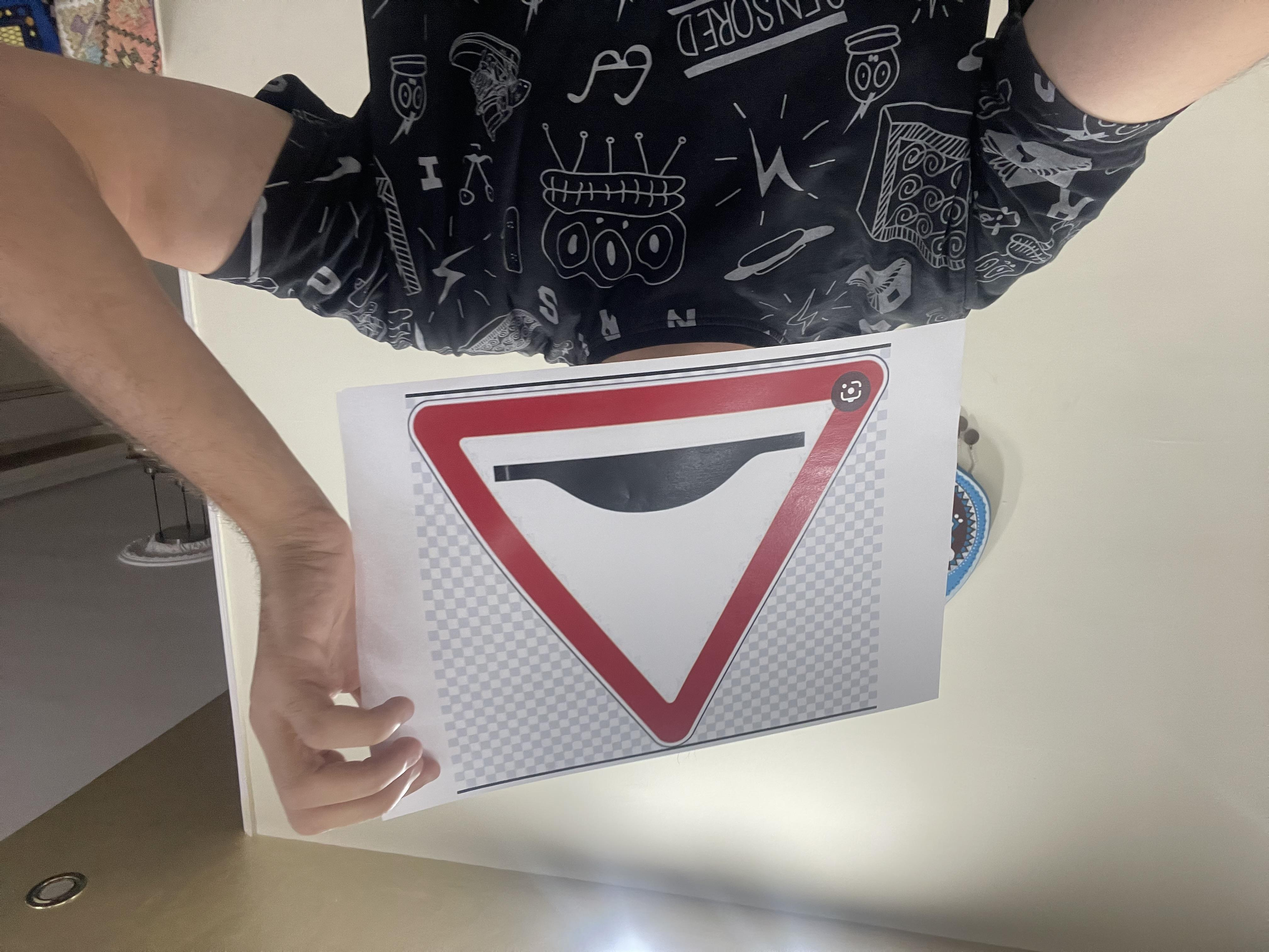Hump: (381, 207, 860, 589)
